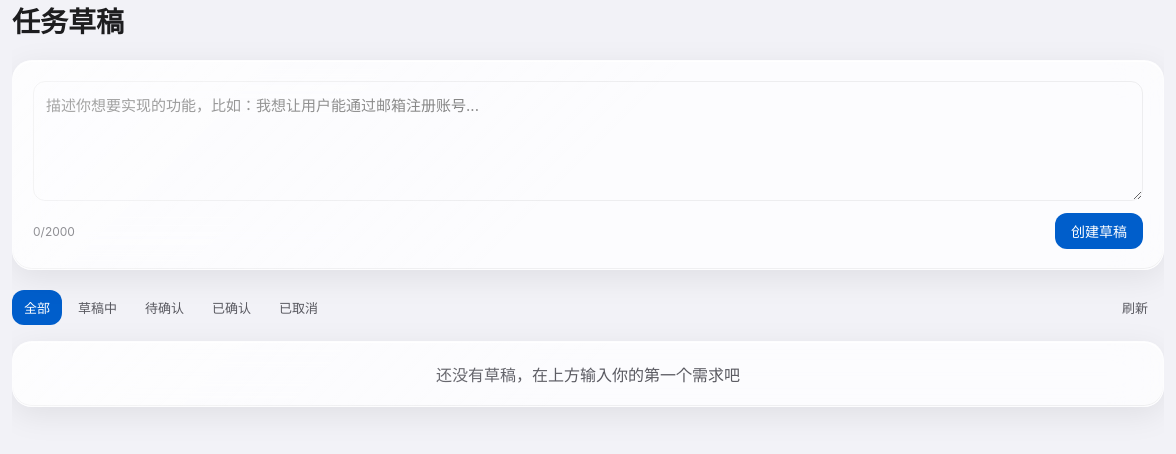
TaskDraftList › creates a trimmed draft from the button or shortcut and reports provider errors
This screenshot has width=1176, height=454.
expect the text "还没有草稿，在上方输入你的第一个需求吧" is shown: met, box [436,365,740,385]
Type "  automate Slack  " into the text box named "需求描述". click: (588, 141)
box: [33,81,1143,201]
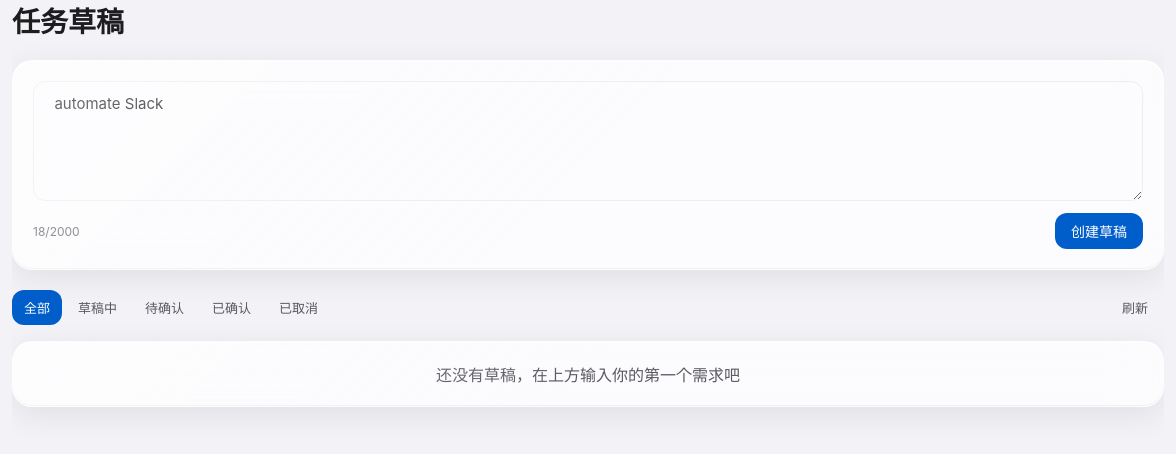
Click the button with aria-label "提交草稿". click: (1099, 231)
box: [1055,213,1143,249]
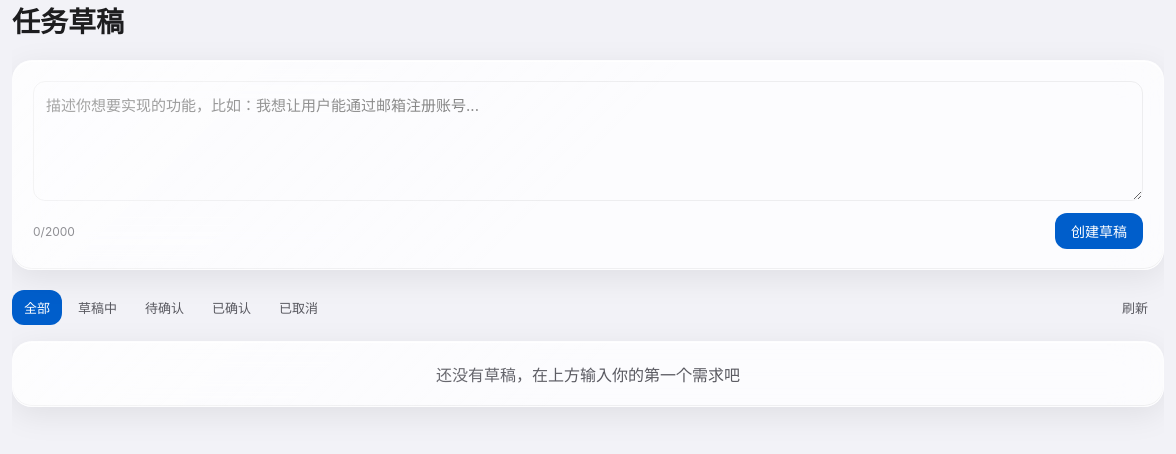
Type "retry draft" into the text box named "需求描述". click: (588, 141)
box: [33,81,1143,201]
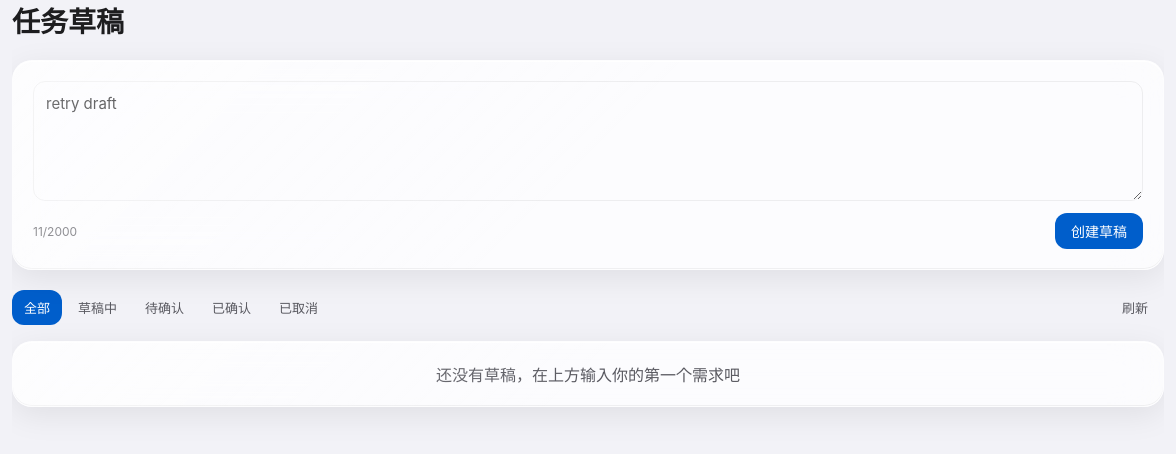
Press Enter in the text box named "需求描述", box [33,81,1143,201]
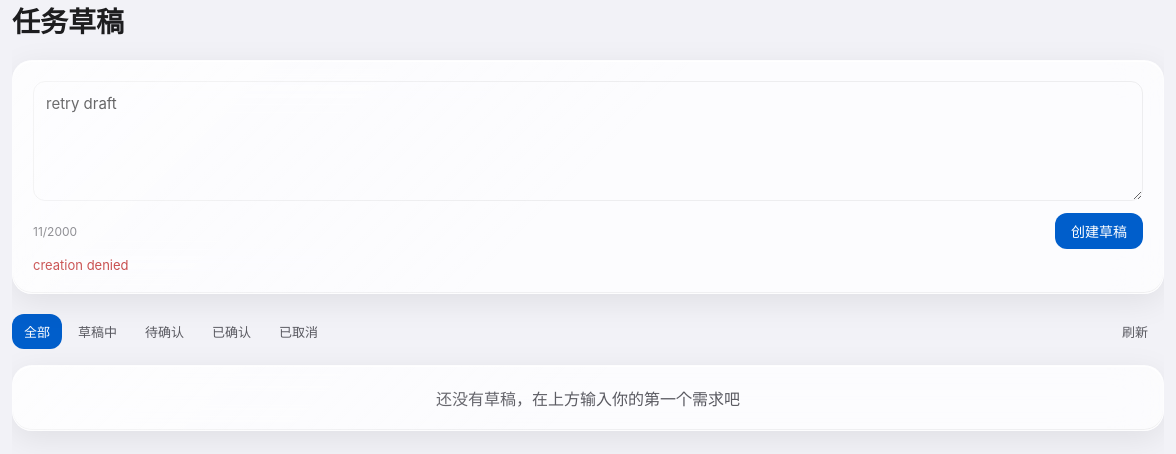
expect the text "creation denied" is shown: met, box [33,257,129,273]
